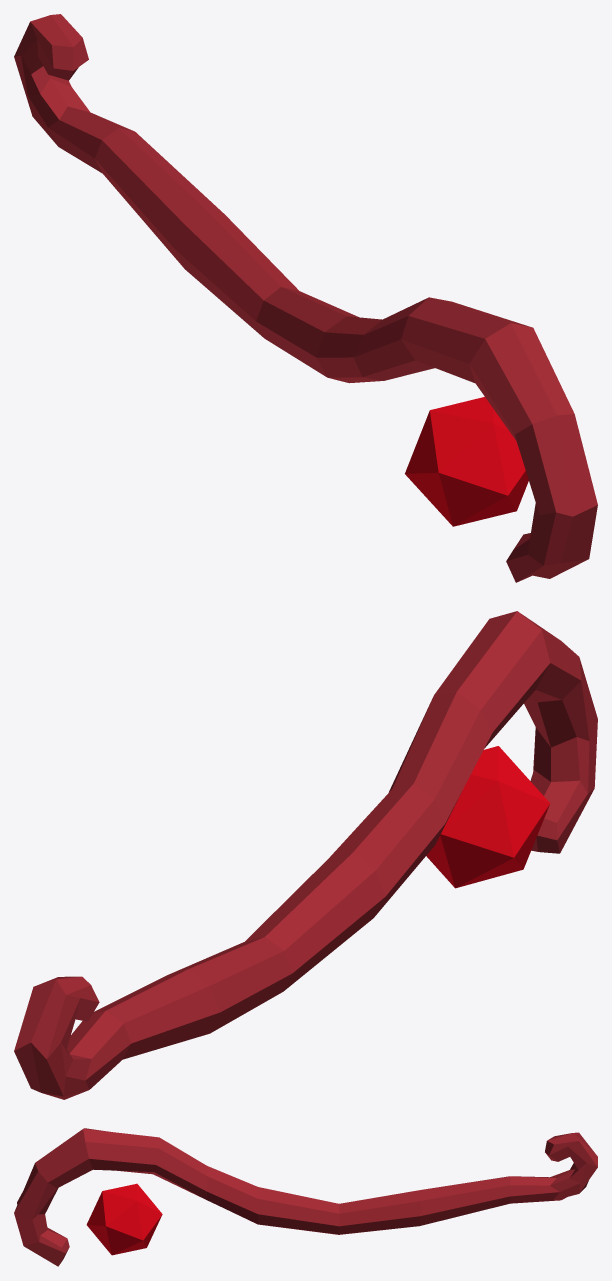
Rendered from Cajado.fbx.
The picture shows the model from 3 angles, top to bottom: view 1: azimuth 30°, elevation 25°; view 2: azimuth 150°, elevation 25°; view 3: azimuth 270°, elevation 25°; orthographic projection. The views are drawn at different scales.
Visible parts, largest first — view 1: Cajado; view 2: Cajado; view 3: Cajado.
Part boxes in pixels (x1,y1,x2,y2): Cajado: (14,14,597,582); Cajado: (14,611,597,1099); Cajado: (14,1128,597,1266).
Size of the model in its own units: 10.61 by 23.87 by 94.52.
